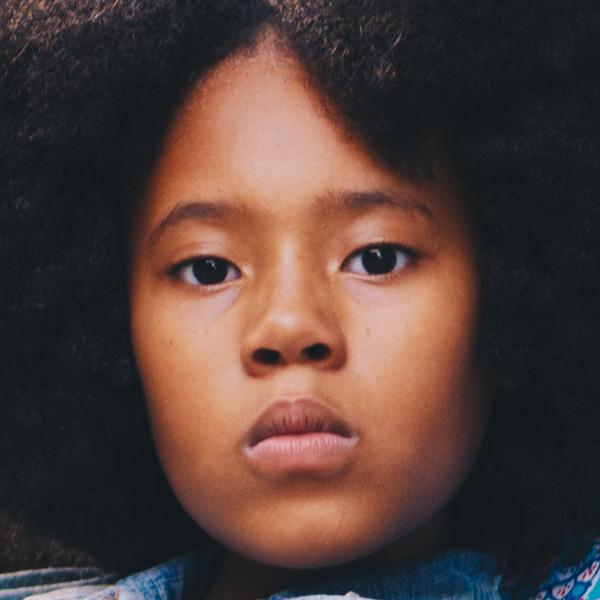Eyes: (331, 224, 426, 290), (156, 236, 249, 298)
